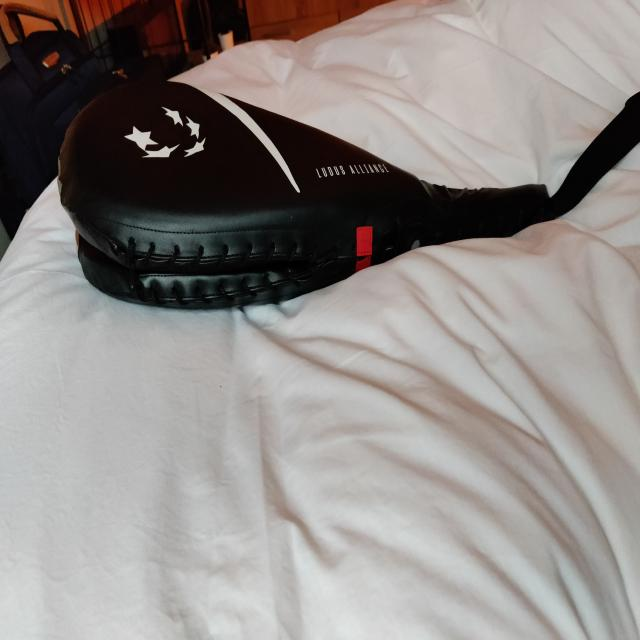paddle: (56, 75, 551, 312)
